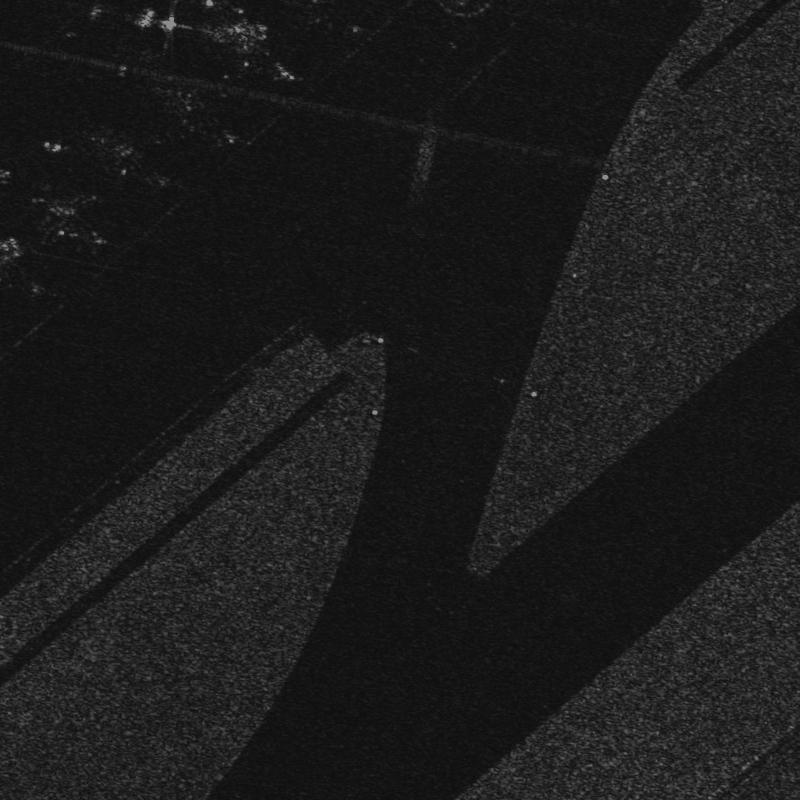Boeing737: (216, 13, 305, 90), (159, 73, 242, 155), (95, 127, 175, 193), (37, 191, 111, 252)
